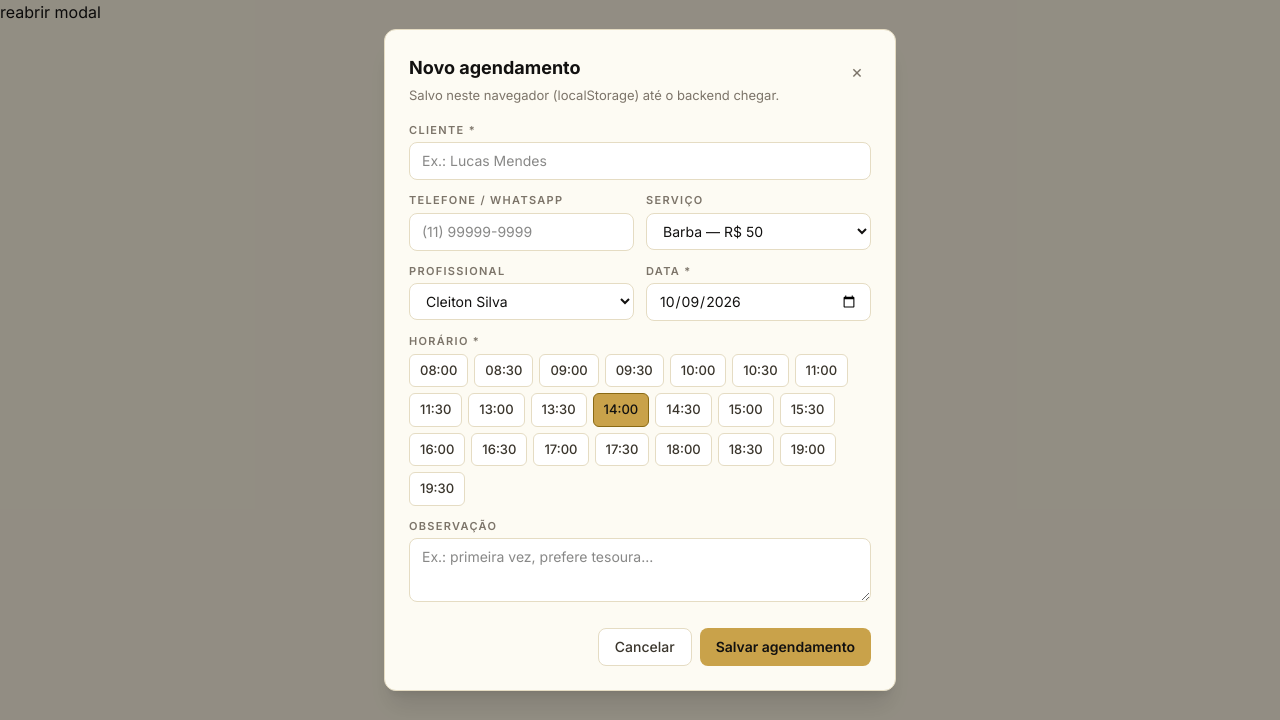
Scenario: NovoAgendamentoModal — conflito de horários › valida nome do cliente antes de salvar
Click the button "Salvar agendamento" at coordinates (785, 647), box [700, 628, 871, 666]
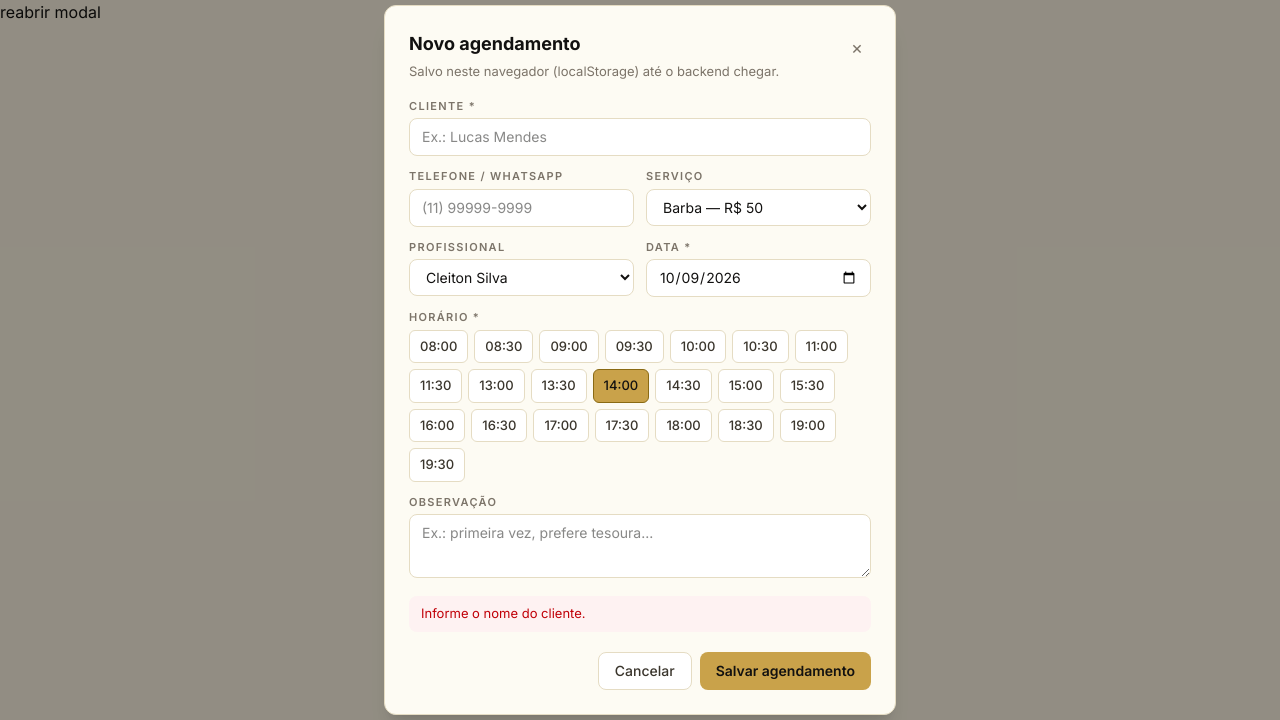
Now the text "Informe o nome do cliente." is shown, box [409, 596, 871, 632]
